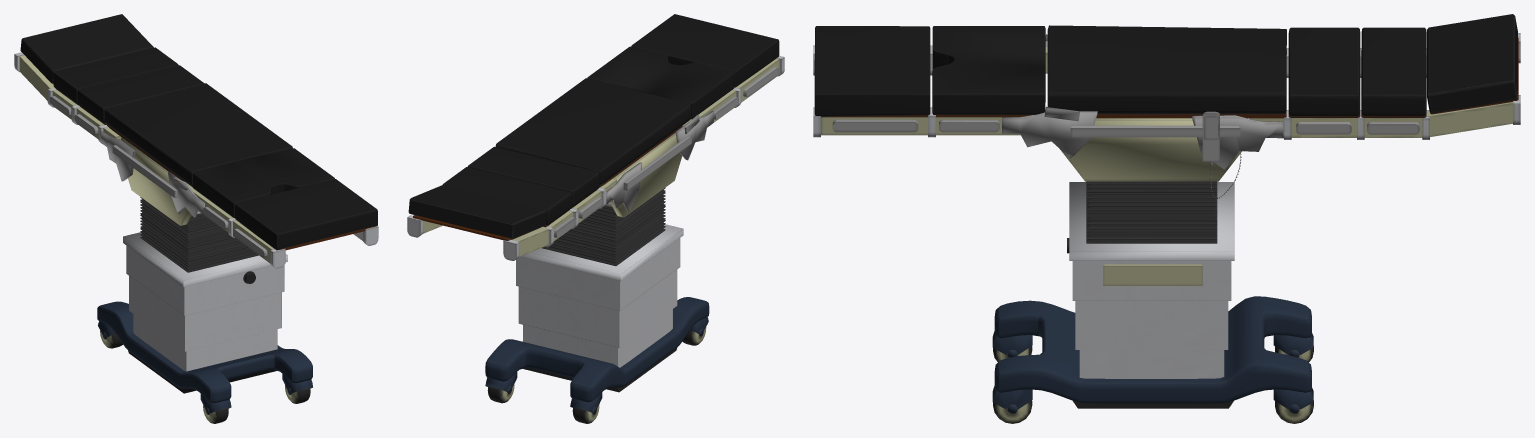
The model's file is sedye.fbx.
3 renders of one model, left to right at view 1: azimuth 30°, elevation 25°; view 2: azimuth 150°, elevation 25°; view 3: azimuth 270°, elevation 25°, orthographic. The views are drawn at different scales.
Parts seen in each view (by area): view 1: strecher; view 2: strecher; view 3: strecher.
Boxes of the visible parts, left/top/right/bottom form: strecher: left=14, top=14, right=378, bottom=423; strecher: left=407, top=14, right=784, bottom=423; strecher: left=813, top=14, right=1520, bottom=423.
Bounding box in the file's own units: 77.6 × 161 × 298.
